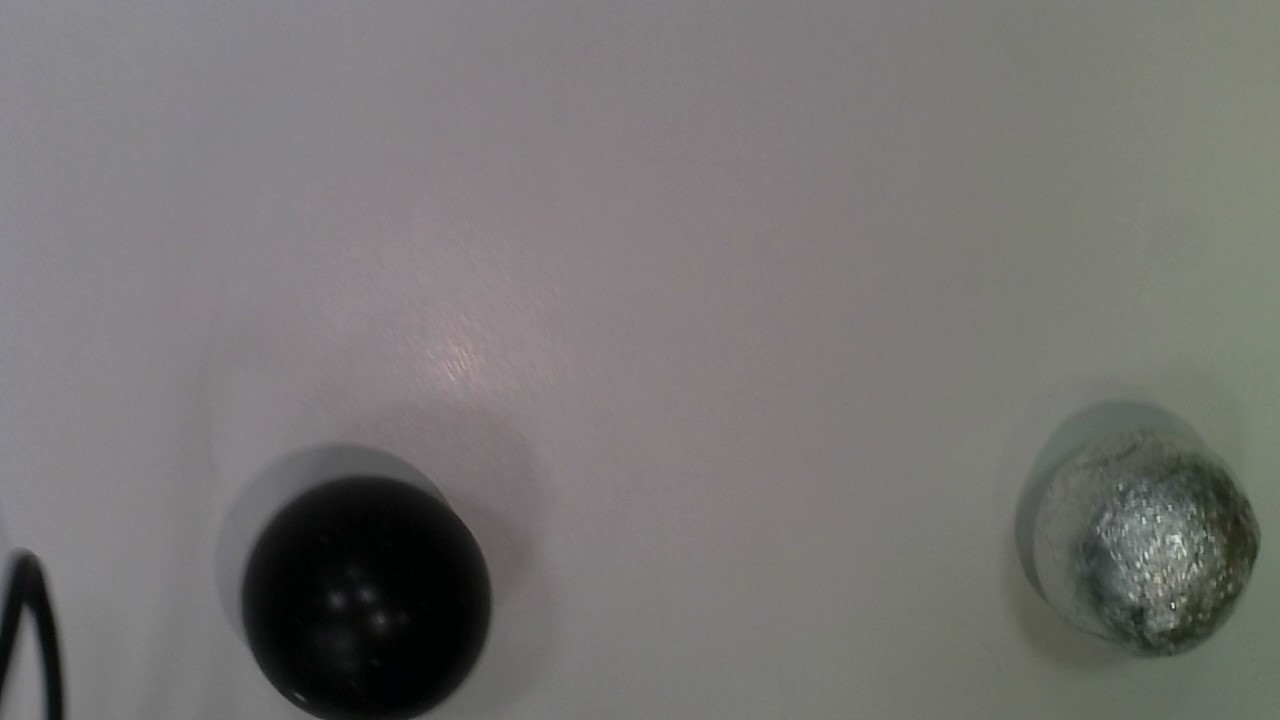black_ball: (225, 455, 502, 720)
silver_ball: (997, 418, 1273, 672)
